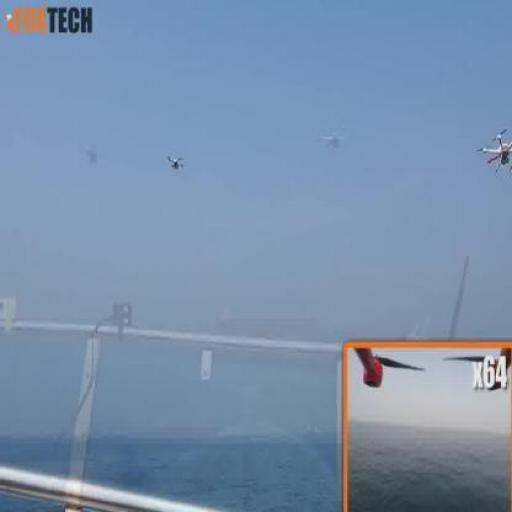drone: (476, 124, 512, 171), (164, 150, 192, 181)
